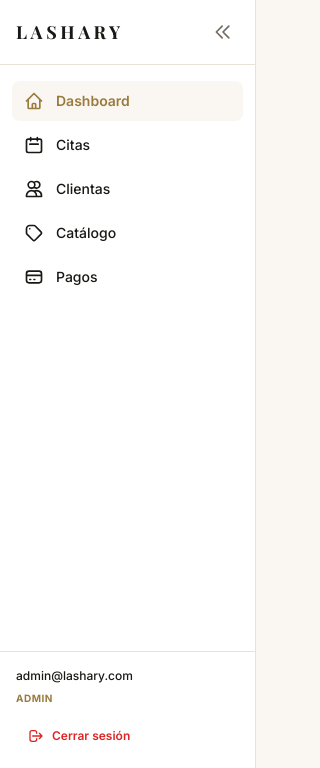
Test: US-AUTH-01: Autenticación de Administradores (/admin) › CA-2: Renderiza AdminSidebar con navegación persistente, usuario y botón de cerrar sesión
Expected: the text "LASHARY" is shown, [16,18,124,46]
Expected: the text "Dashboard" is shown, [56,91,130,111]
Click the button named "colapsar barra". click: [223, 32]
box: [207,16,239,48]
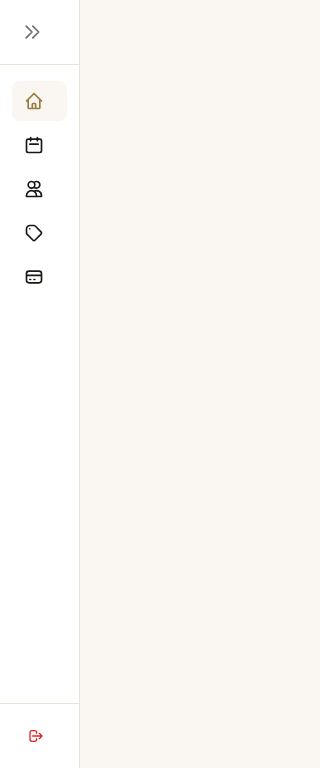
Expected: the text "LASHARY" is gone
Click the button named "expandir barra". click: [32, 32]
box: [16,16,48,48]
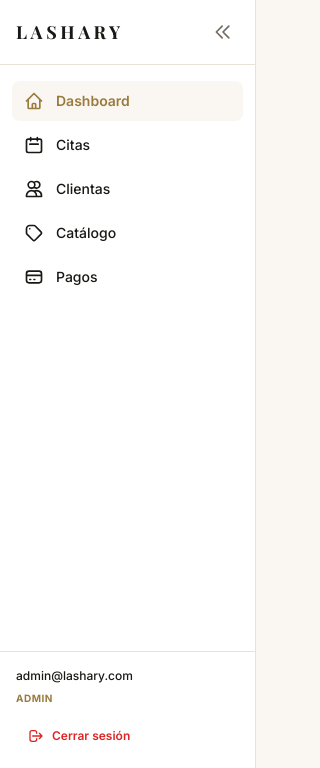
Expected: the text "LASHARY" is shown, [16,18,124,46]
